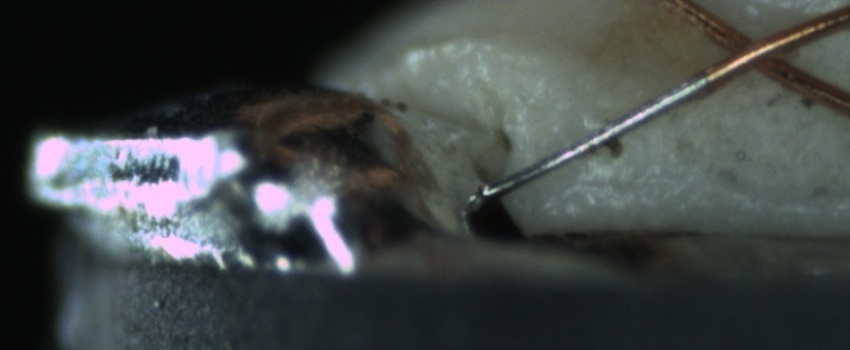CL: (702, 13, 811, 84)
TS: (481, 71, 707, 206)
TTCW: (473, 37, 753, 205)
